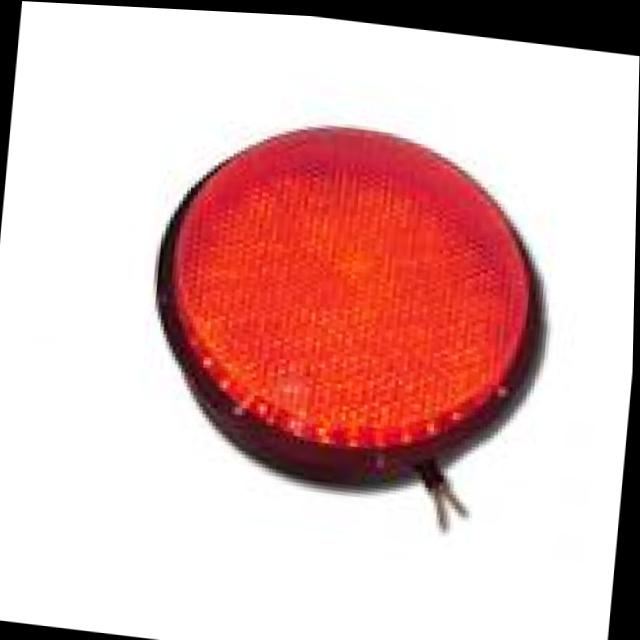red_light: (150, 72, 570, 576)
